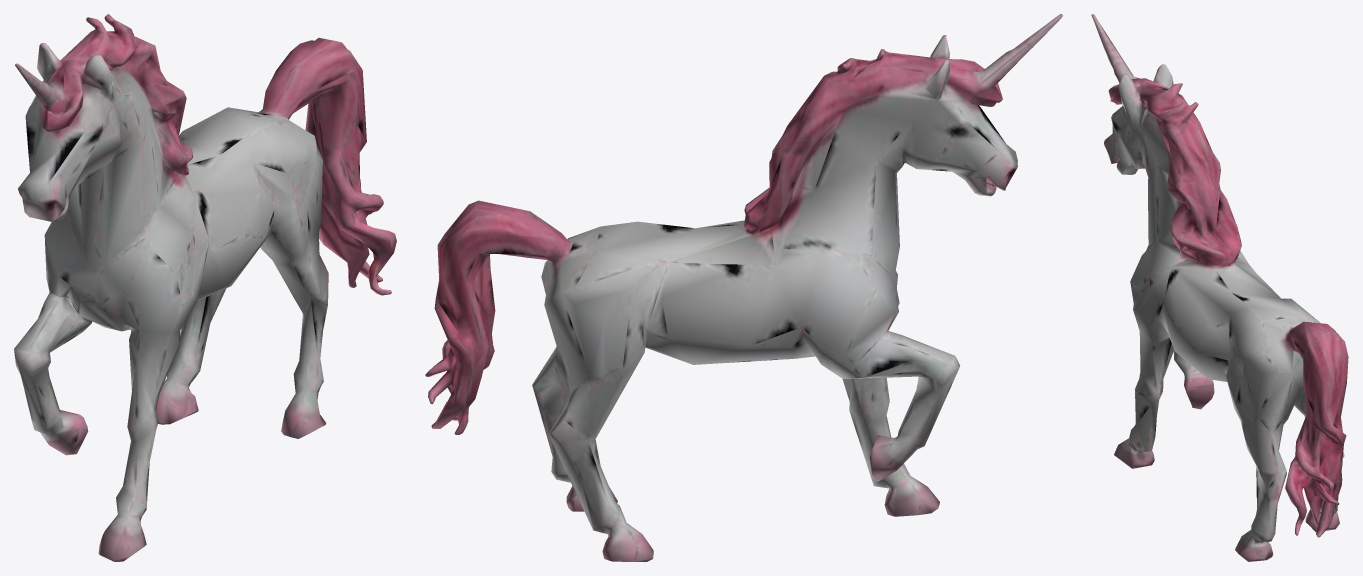
Rendered from Unicorn.glb.
3 views of the same model, side by side, from view 1: azimuth 30°, elevation 25°; view 2: azimuth 150°, elevation 25°; view 3: azimuth 270°, elevation 25° (orthographic). The views are drawn at different scales.
Parts seen in each view (by area): view 1: 3d66-Editable_Poly-23249499-002; view 2: 3d66-Editable_Poly-23249499-002; view 3: 3d66-Editable_Poly-23249499-002.
Part boxes in pixels (x1,y1,x2,y2): 3d66-Editable_Poly-23249499-002: [14, 14, 396, 561]; 3d66-Editable_Poly-23249499-002: [425, 14, 1062, 561]; 3d66-Editable_Poly-23249499-002: [1091, 14, 1348, 561].
Size of the model in its own units: 0.801 by 0.7953 by 0.4642.
1 material, 1 textured.
